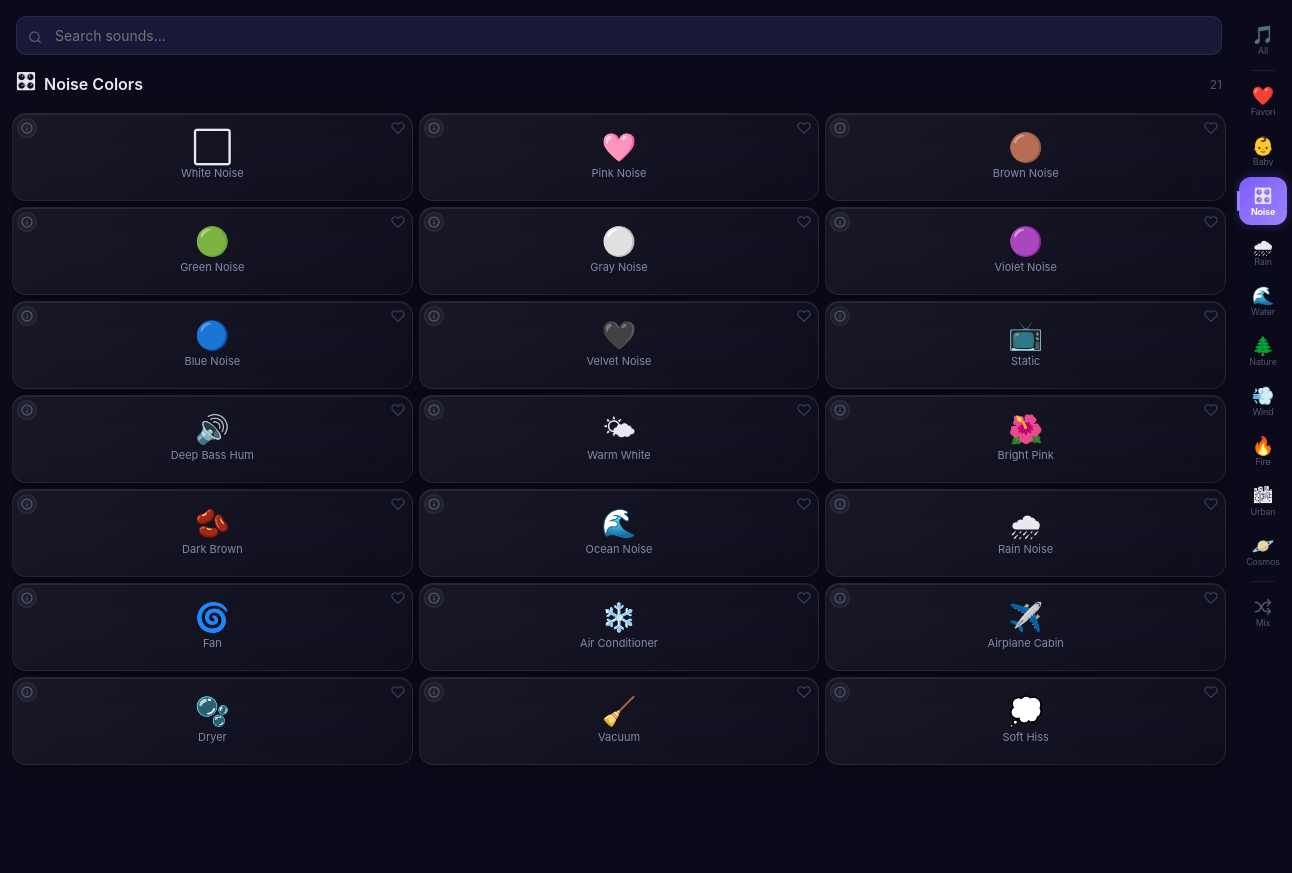
Test: SoundGrid › should show all sounds when All is clicked
Click the text "All" at (1263, 50), box left=1258, top=46, right=1268, bottom=54
(page scrolled)
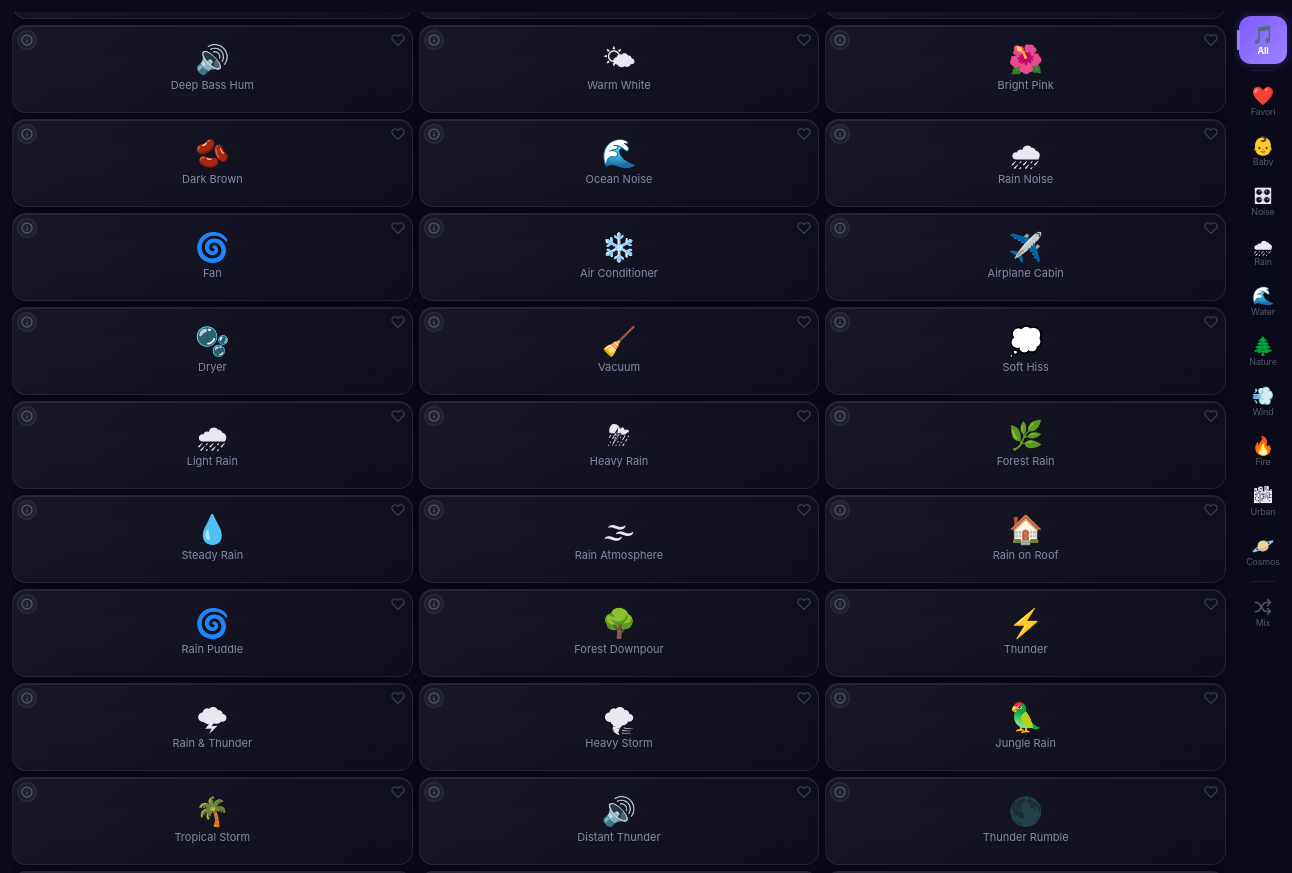
Now the text "Light Rain" is shown, box left=185, top=455, right=240, bottom=469
